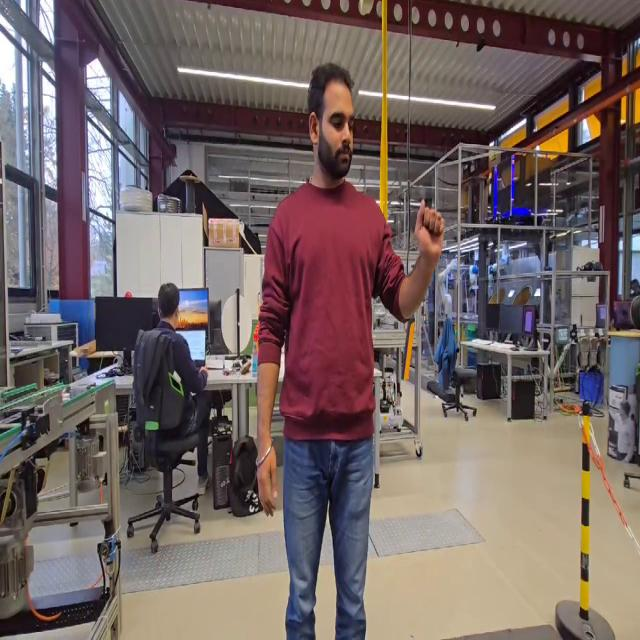closed_fist: (411, 192, 449, 272)
